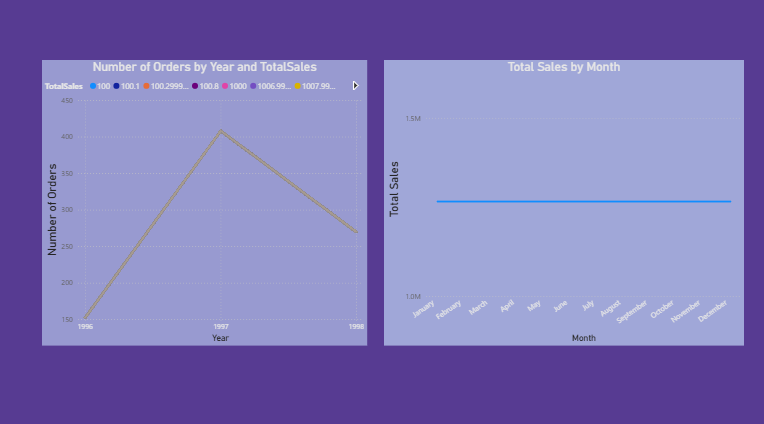

The dashboard page shown, as its layout file describes it:
{"tool":"powerbi","page":{"name":" Time-Based Sales Analysis","canvas":[1280,720],"ordinal":2},"visuals":[{"type":"lineChart","fields":{"Series":["OrdersDetails.TotalSales "],"Category":["Orders.OrderDate.Variation.Date Hierarchy.Year"],"Y":["Orders.Estimated Profit"]},"box":[70,100,542,476],"z":0},{"type":"lineChart","fields":{"Y":["OrdersDetails.Total Sales"],"Category":["Orders.OrderDate.Variation.Date Hierarchy.Month"]},"box":[640,100,600,476],"z":1000}]}

Visuals, with their boxes in screenshot pixels (x1, y1, x2, y2), scaled from the page's 1280x720 canvas onto the 764x424 screenshot:
lineChart - OrdersDetails.TotalSales  x Orders.OrderDate.Variation.Date Hierarchy.Year: l=42, t=59, r=365, b=339
lineChart - OrdersDetails.Total Sales x Orders.OrderDate.Variation.Date Hierarchy.Month: l=382, t=59, r=740, b=339
